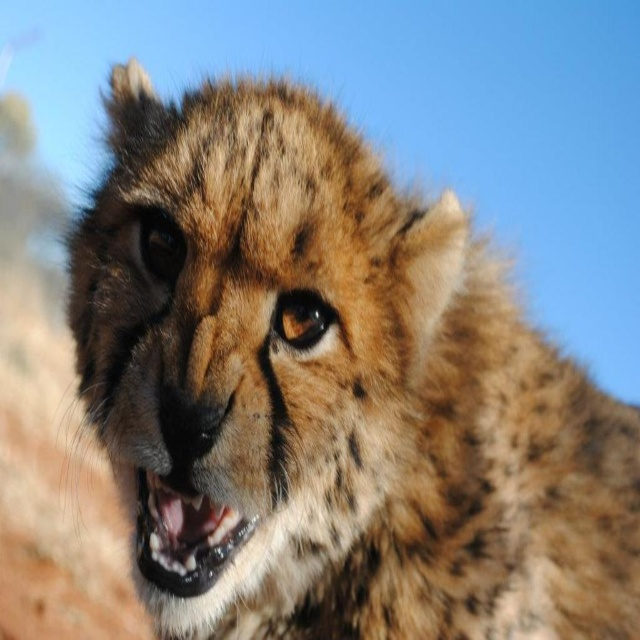Cheetah: (51, 56, 639, 639)
